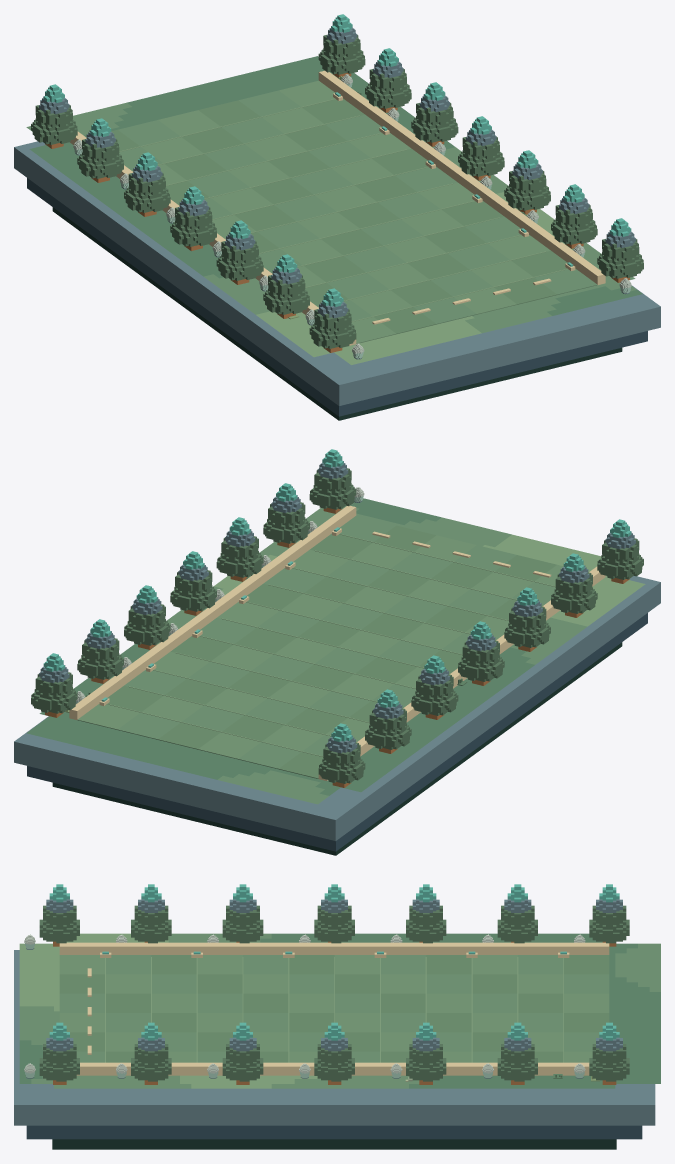
File: chain_purified.glb
3 views of the same model, one above another, from view 1: azimuth 30°, elevation 25°; view 2: azimuth 150°, elevation 25°; view 3: azimuth 270°, elevation 25° (orthographic).
Visible parts, largest first — view 1: chain_ground, chain_occluders; view 2: chain_ground, chain_occluders; view 3: chain_ground, chain_occluders.
Boxes of the visible parts, left/top/right/bottom form: chain_ground: left=14, top=56, right=660, bottom=420; chain_occluders: left=31, top=14, right=643, bottom=352; chain_ground: left=14, top=487, right=660, bottom=855; chain_occluders: left=31, top=449, right=643, bottom=787; chain_ground: left=14, top=933, right=660, bottom=1149; chain_occluders: left=39, top=884, right=629, bottom=1084.
Size of the model in its own units: 16.28 by 6.1 by 28.25.
